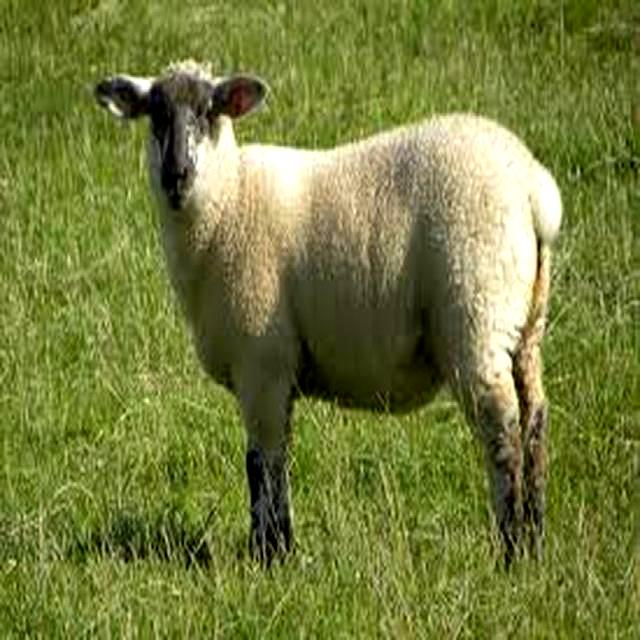sheep: (92, 61, 561, 570)
